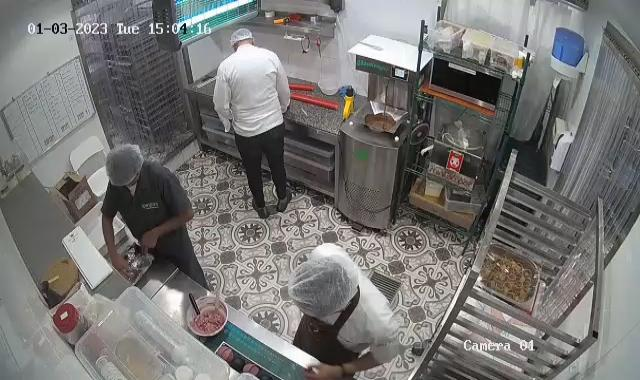hairnet: (285, 253, 355, 317), (102, 142, 143, 189), (226, 25, 257, 51)
